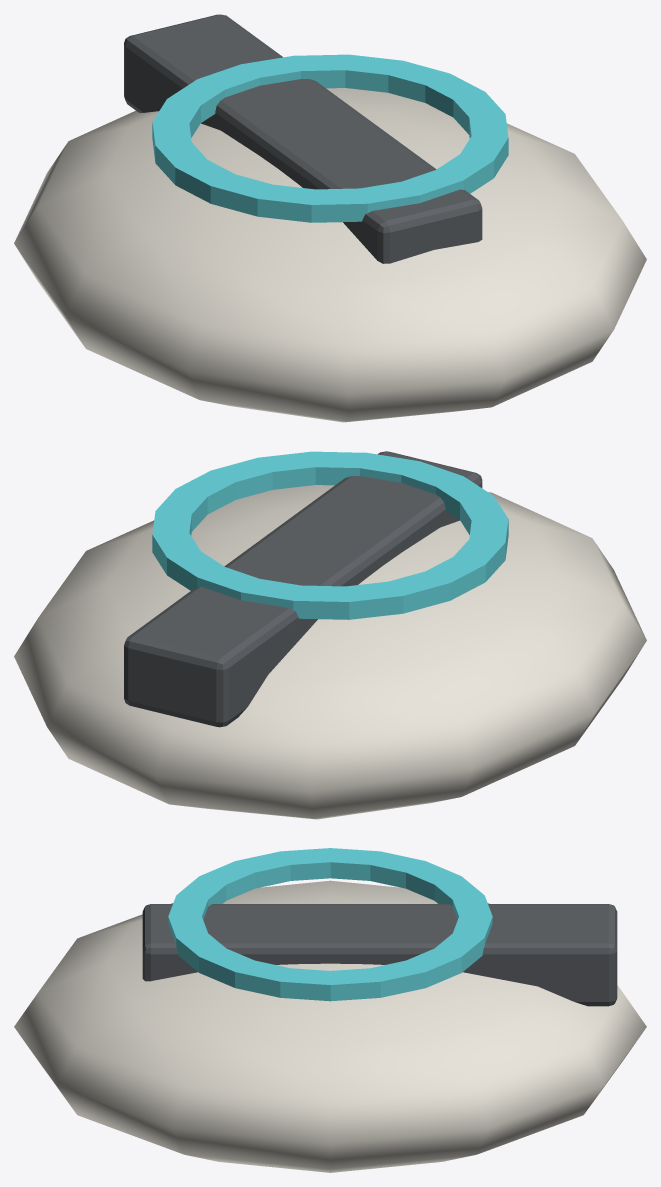
File: ShieldPickup.fbx
3 renders of one model, top to bottom at view 1: azimuth 30°, elevation 25°; view 2: azimuth 150°, elevation 25°; view 3: azimuth 270°, elevation 25°, orthographic. The views are drawn at different scales.
Parts seen in each view (by area): view 1: ShieldBody, ShieldKeel, ShieldStatus; view 2: ShieldBody, ShieldKeel, ShieldStatus; view 3: ShieldBody, ShieldKeel, ShieldStatus.
Boxes of the visible parts, x1=… form: ShieldBody: x1=14, y1=88, x2=646, y2=422; ShieldKeel: x1=124, y1=14, x2=482, y2=263; ShieldStatus: x1=152, y1=54, x2=508, y2=222; ShieldBody: x1=14, y1=485, x2=646, y2=819; ShieldKeel: x1=124, y1=451, x2=482, y2=727; ShieldStatus: x1=152, y1=451, x2=508, y2=619; ShieldBody: x1=14, y1=880, x2=646, y2=1172; ShieldKeel: x1=142, y1=904, x2=617, y2=1006; ShieldStatus: x1=168, y1=848, x2=492, y2=1001.
Bounding box in the file's own units: 0.28 × 0.1115 × 0.32.
